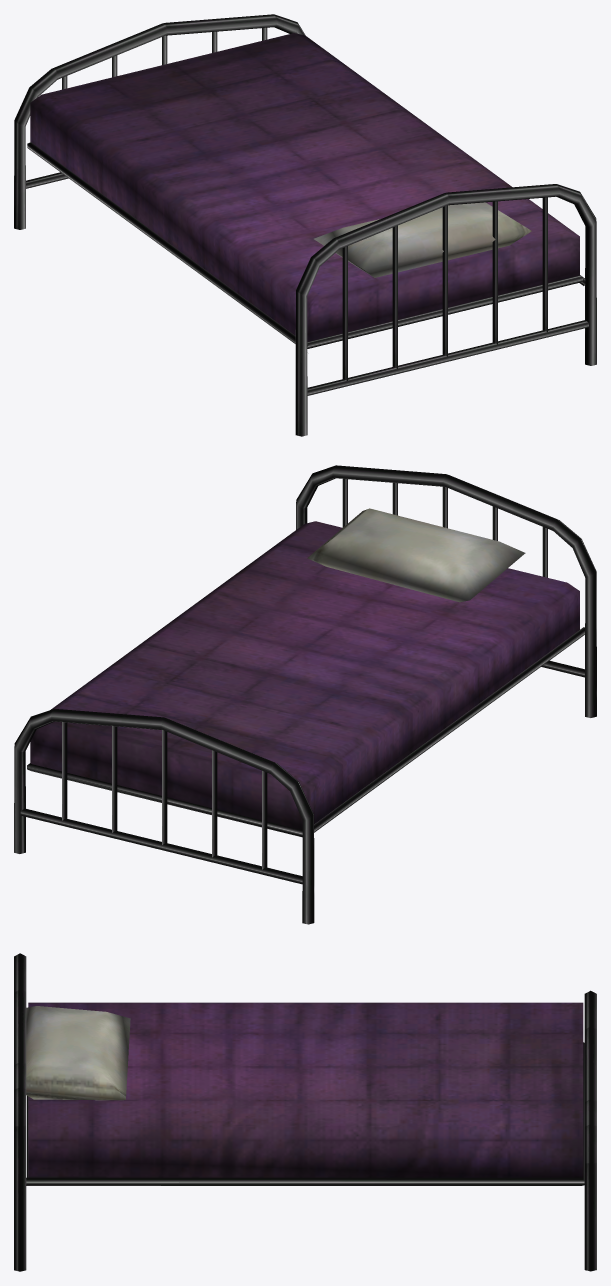
File: singlemetalbed.fbx
3 views of the same model, one above another, from view 1: azimuth 30°, elevation 25°; view 2: azimuth 150°, elevation 25°; view 3: azimuth 270°, elevation 25° (orthographic).
Visible parts, largest first — view 1: mesh_16, mesh_9, mesh_17, mesh_0, mesh_7, mesh_10, mesh_8, mesh_13, mesh_12, mesh_14, mesh_15, mesh_11; view 2: mesh_16, mesh_17, mesh_0, mesh_9, mesh_7, mesh_1, mesh_4, mesh_5, mesh_3; view 3: mesh_16, mesh_17, mesh_7, mesh_9, mesh_0.
Boxes of the visible parts, left/top/right/bottom form: mesh_16: left=30, top=33, right=579, bottom=341; mesh_9: left=295, top=184, right=596, bottom=436; mesh_17: left=314, top=202, right=531, bottom=277; mesh_0: left=14, top=14, right=305, bottom=229; mesh_7: left=27, top=142, right=585, bottom=346; mesh_10: left=307, top=320, right=588, bottom=395; mesh_8: left=307, top=275, right=582, bottom=348; mesh_13: left=442, top=205, right=447, bottom=356; mesh_12: left=392, top=225, right=397, bottom=368; mesh_14: left=492, top=201, right=497, bottom=344; mesh_15: left=542, top=197, right=547, bottom=332; mesh_11: left=342, top=246, right=347, bottom=380; mesh_16: left=30, top=521, right=579, bottom=829; mesh_17: left=307, top=508, right=525, bottom=602; mesh_0: left=14, top=708, right=314, bottom=924; mesh_9: left=296, top=465, right=596, bottom=717; mesh_7: left=27, top=627, right=584, bottom=837; mesh_1: left=20, top=808, right=302, bottom=884; mesh_4: left=162, top=730, right=167, bottom=844; mesh_5: left=112, top=725, right=117, bottom=832; mesh_3: left=212, top=750, right=217, bottom=857; mesh_16: left=28, top=1002, right=583, bottom=1177; mesh_17: left=26, top=1006, right=130, bottom=1100; mesh_7: left=26, top=1042, right=584, bottom=1185; mesh_9: left=14, top=953, right=26, bottom=1271; mesh_0: left=584, top=990, right=596, bottom=1271.
Size of the model in its own units: 120 by 78.66 by 200.
Materials: 1 (1 with a texture image).
